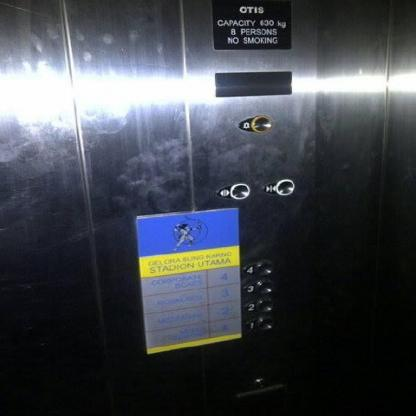1: (243, 315, 274, 333)
2: (243, 296, 274, 314)
3: (244, 278, 273, 297)
4: (243, 258, 273, 278)
alarm: (238, 116, 270, 132)
blur: (251, 376, 269, 389)
close: (259, 178, 295, 197)
led: (214, 70, 290, 97)
open: (214, 182, 250, 200)
